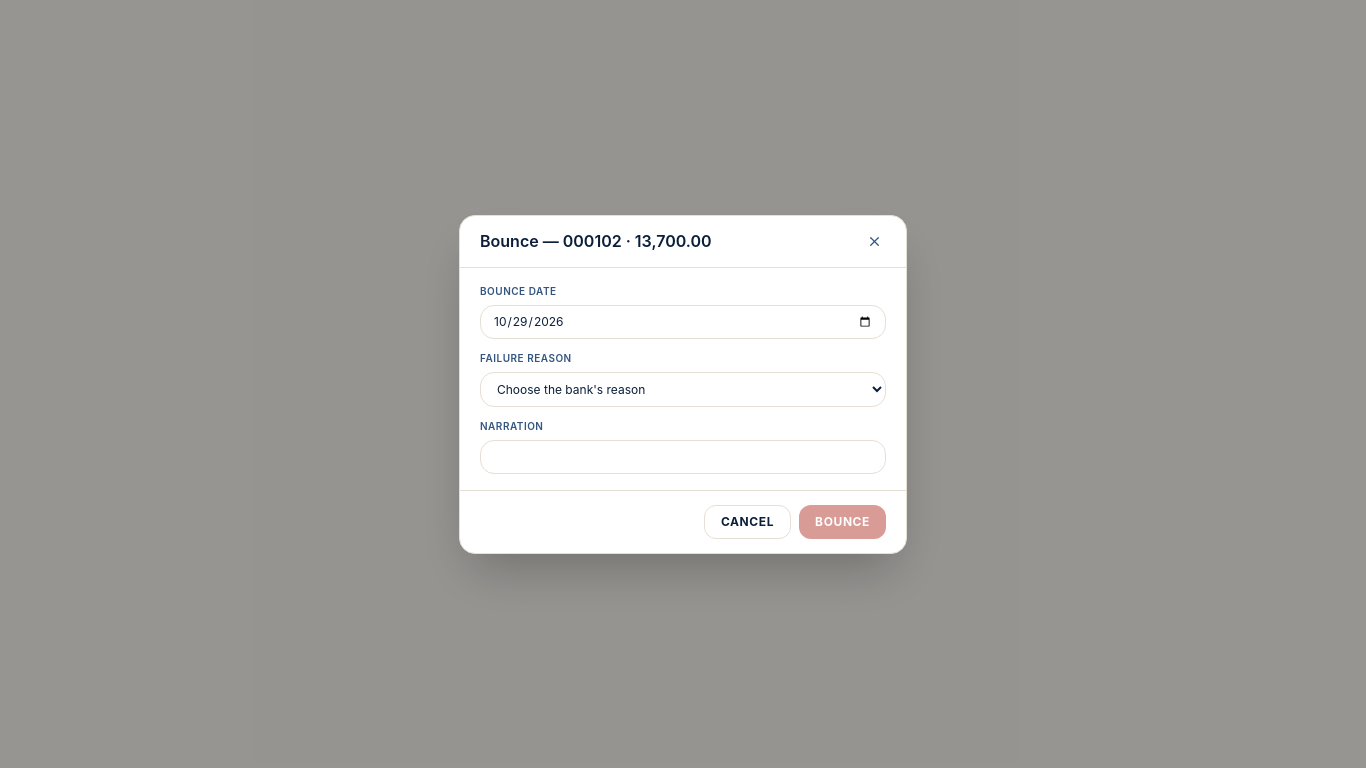
Test case: BounceChequeDialog › refuses a bounce date after today before it is sent
The width and height of the screenshot is (1366, 768).
In the date field with test id "bounce-date": (683, 322) [480,304,886,338], type "2126-01-15"
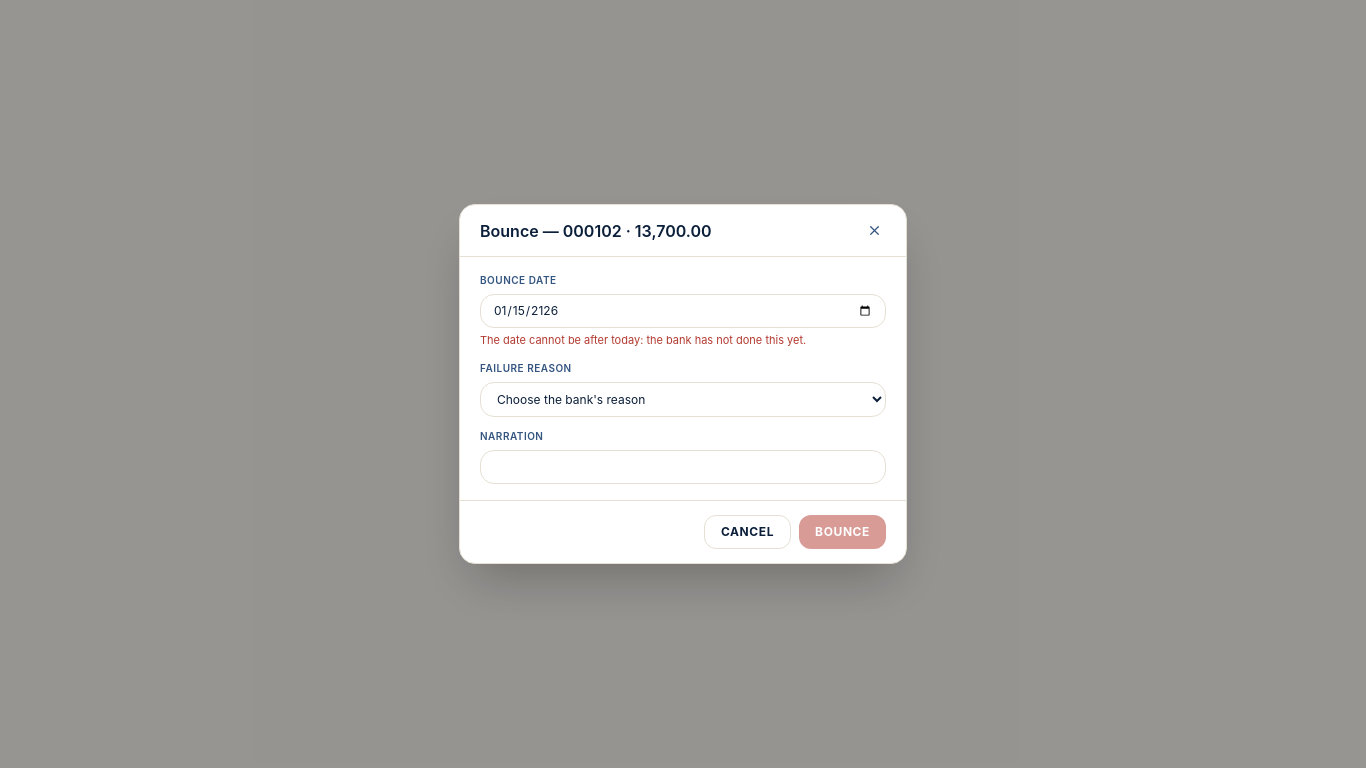
Expected: the button with test id "cheque-bounce-confirm" is disabled, [799,515,886,549]
Now the message "The date cannot be after today: the bank has not done this yet." is shown, box [480,333,806,347]
